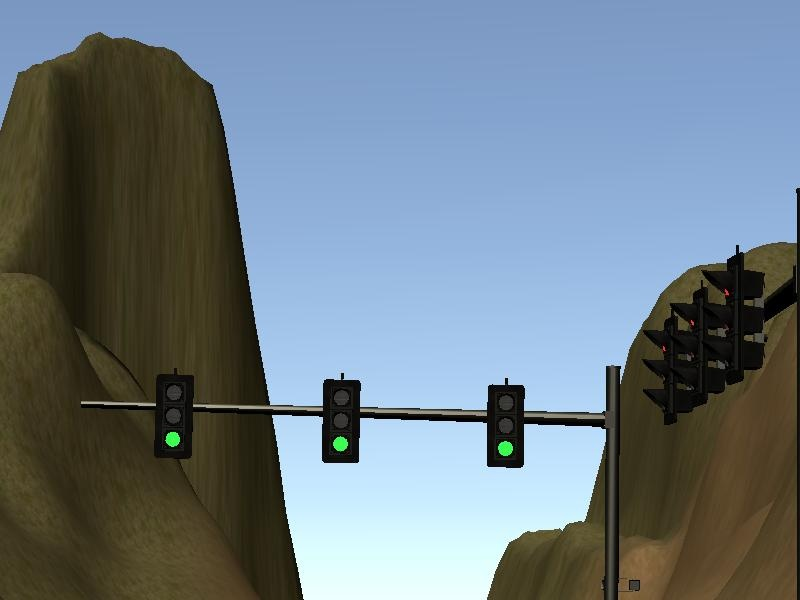GREEN: (152, 371, 197, 460), (484, 383, 526, 471), (320, 378, 362, 465)
